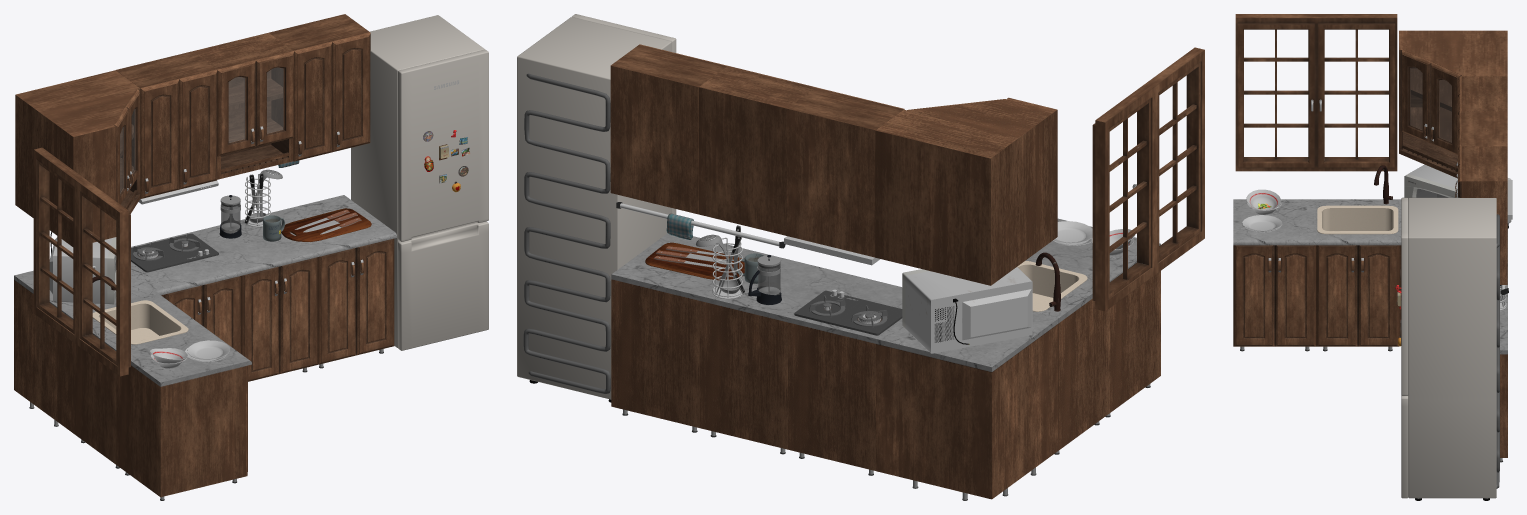
File: wooden_kitchen.glb
3 renders of one model, left to right at view 1: azimuth 30°, elevation 25°; view 2: azimuth 150°, elevation 25°; view 3: azimuth 270°, elevation 25°, orthographic. The views are drawn at different scales.
Visible parts, largest first — view 1: cupboard1_low.004_19, fridge1_low.001_58, cupboardupsbok1_low_49, fridge1_low_57, fridge1_low.002_59, window1_low_115, cupboardbok1_24, window2_low_116, cupboardups1_low_41, cupboard1_low.003_27, cupboardup2_low.001_34, cupboardup2_low_33 (+25 smaller); view 2: fridge1_low_57, cupboardupsbok1_low_49, cupboardbok1_24, cupboard1_low.001_9, cupboard1_low.002_14, cupboardup1_low.002_37, cupboardup1_low_32, cupboardups1_low_41, cupboard1_low_4, window1_low_115, object 70, window2_low_116 (+8 smaller); view 3: fridge1_low_57, window1_low_115, cupboardupsbok1_low_49, cupboard2_low.009_21, cupboard2_low.008_20, cupboard2_low.006_28, cupboard2_low.007_29, window2_low_116, cupboardup1_low_32, cupboard1_low.004_19, object 90, cupboardupsbok2_low.003_53 (+16 smaller).
Part boxes in pixels (bbox=[...]): cupboard1_low.004_19: bbox=[116, 328, 251, 497]; fridge1_low.001_58: bbox=[398, 49, 488, 241]; cupboardupsbok1_low_49: bbox=[15, 70, 140, 246]; fridge1_low_57: bbox=[351, 15, 484, 347]; fridge1_low.002_59: bbox=[398, 221, 488, 350]; window1_low_115: bbox=[37, 160, 130, 367]; cupboardbok1_24: bbox=[14, 263, 167, 431]; window2_low_116: bbox=[33, 147, 128, 376]; cupboardups1_low_41: bbox=[192, 32, 293, 179]; cupboard1_low.003_27: bbox=[72, 296, 205, 464]; cupboardup2_low.001_34: bbox=[293, 41, 332, 161]; cupboardup2_low_33: bbox=[332, 32, 370, 152]; fridge1_low_57: bbox=[517, 17, 671, 399]; cupboardupsbok1_low_49: bbox=[875, 97, 1057, 285]; cupboardbok1_24: bbox=[876, 312, 1058, 499]; cupboard1_low.001_9: bbox=[699, 252, 847, 449]; cupboard1_low.002_14: bbox=[611, 233, 759, 427]; cupboardup1_low.002_37: bbox=[787, 88, 903, 257]; cupboardup1_low_32: bbox=[610, 45, 726, 214]; cupboardups1_low_41: bbox=[699, 66, 814, 235]; cupboard1_low_4: bbox=[788, 274, 902, 470]; window1_low_115: bbox=[1092, 62, 1200, 300]; object 70: bbox=[902, 267, 1032, 353]; window2_low_116: bbox=[1095, 47, 1204, 311]; fridge1_low_57: bbox=[1408, 197, 1496, 498]; window1_low_115: bbox=[1237, 23, 1395, 167]; cupboardupsbok1_low_49: bbox=[1399, 30, 1507, 178]; cupboard2_low.009_21: bbox=[1274, 245, 1316, 346]; cupboard2_low.008_20: bbox=[1233, 245, 1274, 346]; cupboard2_low.006_28: bbox=[1316, 245, 1357, 346]; cupboard2_low.007_29: bbox=[1357, 245, 1399, 346]; window2_low_116: bbox=[1235, 14, 1397, 171]; cupboardup1_low_32: bbox=[1461, 146, 1507, 284]; cupboard1_low.004_19: bbox=[1233, 199, 1316, 245]; object 90: bbox=[1317, 205, 1398, 234]; cupboardupsbok2_low.003_53: bbox=[1402, 50, 1431, 143].
Size of what is drawn, in the model's own units: 3.79 by 2.4 by 2.14.
27 materials, 26 textured.
